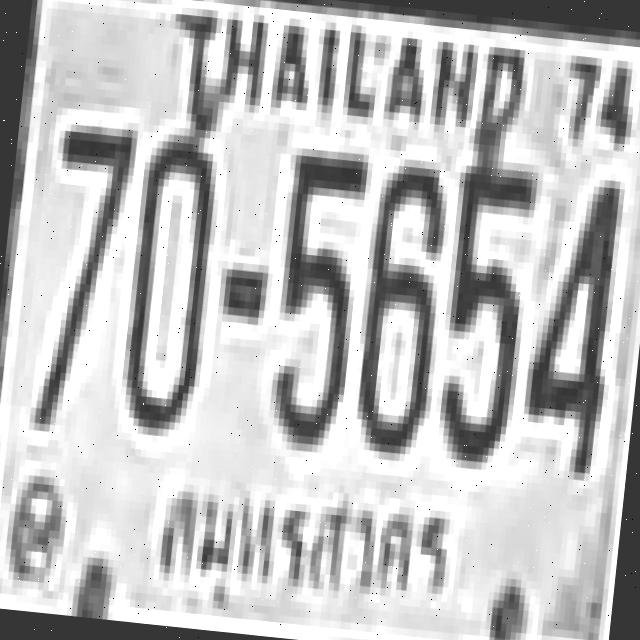0: (117, 124, 220, 431)
4: (514, 166, 624, 473)
5: (432, 150, 536, 464), (260, 139, 364, 446)
6: (348, 152, 452, 451)
7: (30, 112, 134, 418), (34, 115, 134, 385), (40, 114, 133, 324)
SamutSakhon: (142, 468, 472, 630)
